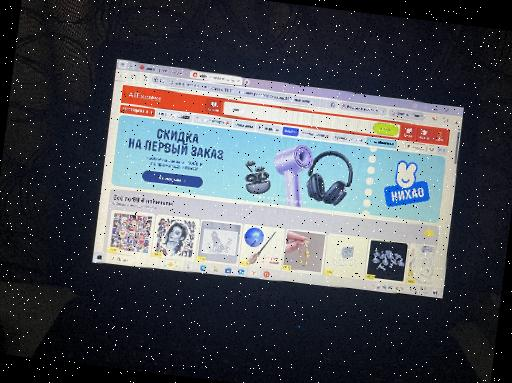aliexpress: (96, 66, 462, 290)
